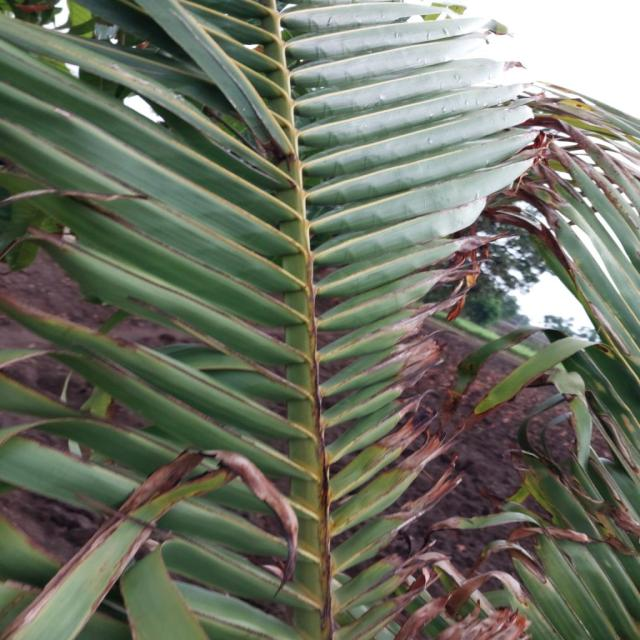leaf rot: (348, 9, 623, 640)
